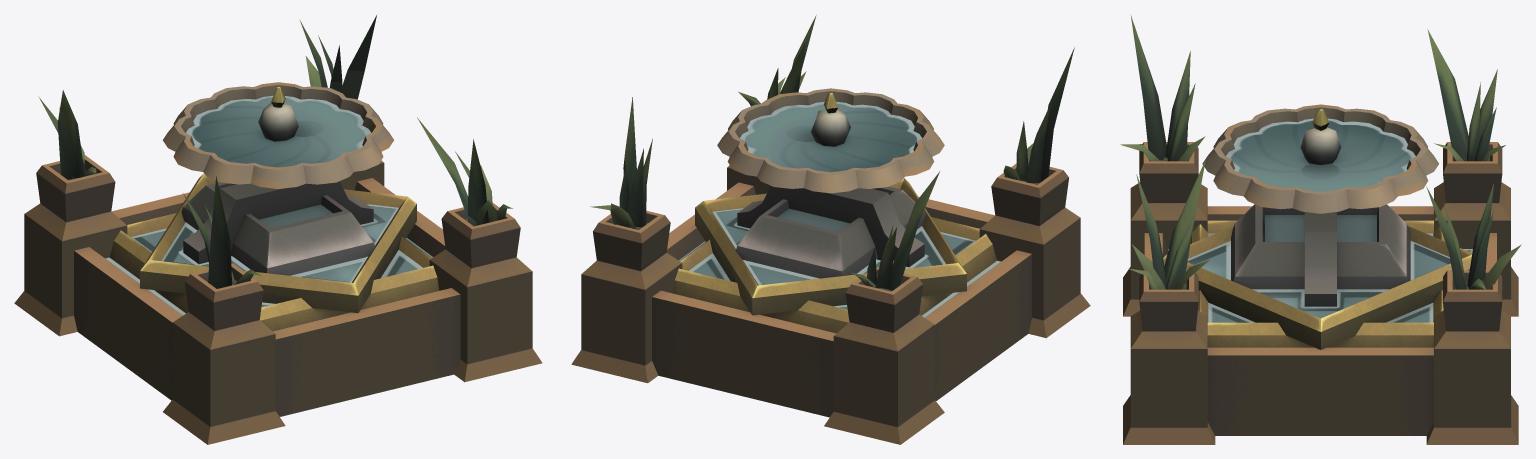
The model's file is trap_462_xbsighta.fbx.
The picture shows the model from 3 angles, left to right: view 1: azimuth 30°, elevation 25°; view 2: azimuth 150°, elevation 25°; view 3: azimuth 270°, elevation 25°; orthographic projection. The views are drawn at different scales.
Parts seen in each view (by area): view 1: trap_462_xbsighta; view 2: trap_462_xbsighta; view 3: trap_462_xbsighta.
Boxes of the visible parts, bbox=[...] form: trap_462_xbsighta: bbox=[14, 15, 542, 444]; trap_462_xbsighta: bbox=[571, 15, 1090, 444]; trap_462_xbsighta: bbox=[1120, 15, 1521, 444].
Bounding box in the file's own units: 1.05 × 0.7864 × 1.06.
1 material, 1 textured.
